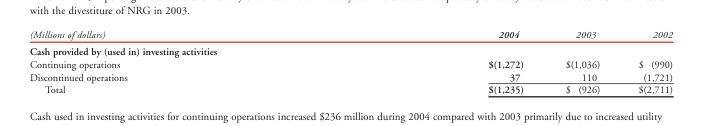table: (28, 29, 672, 95)
table column: (28, 29, 307, 95), (307, 29, 543, 95), (543, 29, 618, 95), (618, 29, 672, 95)
table column header: (28, 29, 672, 42)
table projected row header: (28, 42, 672, 57)
table row: (28, 42, 672, 57), (28, 29, 672, 42), (28, 57, 672, 70), (28, 82, 672, 95), (28, 70, 672, 82)
